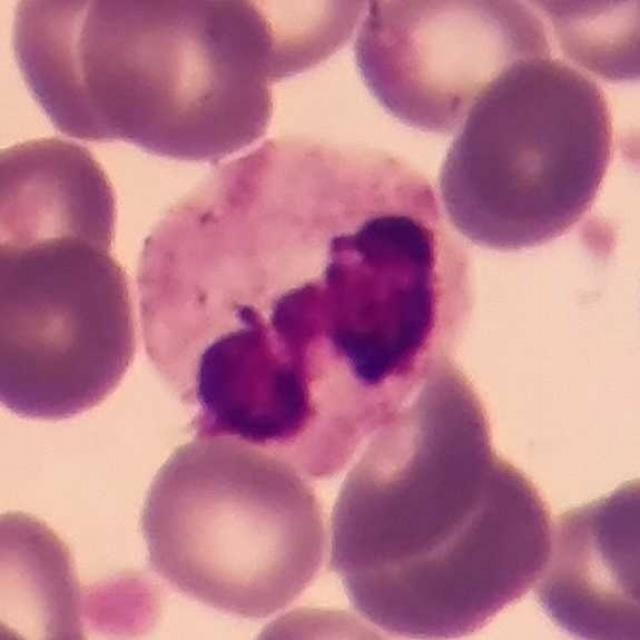Neutrophil: (129, 118, 474, 472)
RBC: (326, 442, 562, 639), (131, 431, 334, 623), (436, 54, 621, 257), (322, 360, 498, 568), (74, 0, 280, 166), (0, 231, 146, 428), (346, 0, 557, 135), (3, 0, 167, 145), (0, 128, 126, 296), (525, 473, 640, 640), (190, 0, 380, 83), (414, 574, 634, 640), (0, 502, 95, 640), (33, 563, 177, 640), (542, 0, 640, 87), (589, 464, 640, 626), (237, 601, 422, 640), (489, 0, 640, 19)
